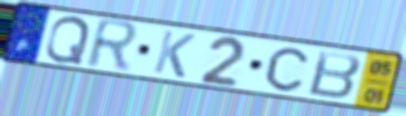2: (199, 35, 248, 90)
B: (305, 49, 364, 102)
C: (263, 46, 310, 94)
K: (150, 27, 198, 80)
Q: (43, 14, 93, 66)
R: (83, 16, 143, 75)
